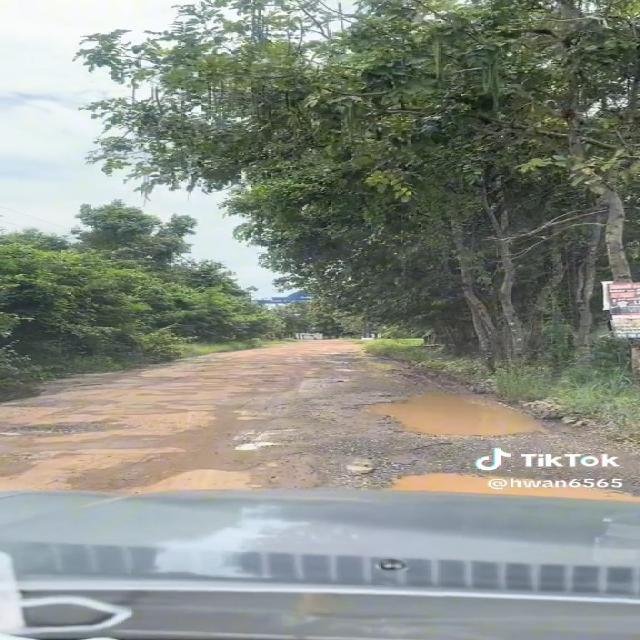Poth-hole: (144, 388, 278, 422)
